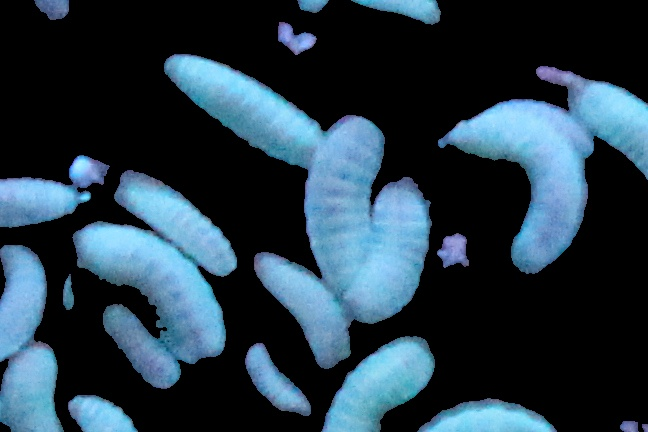larvae: (436, 103, 589, 269), (155, 34, 315, 169), (75, 223, 232, 352), (305, 116, 383, 299), (106, 166, 238, 272), (252, 255, 351, 371), (327, 337, 436, 432), (560, 71, 648, 183), (355, 183, 426, 312), (418, 382, 568, 432), (98, 309, 183, 386), (1, 341, 69, 432), (1, 243, 49, 369), (517, 91, 595, 158), (241, 337, 306, 414), (1, 177, 81, 226), (71, 392, 140, 432)
